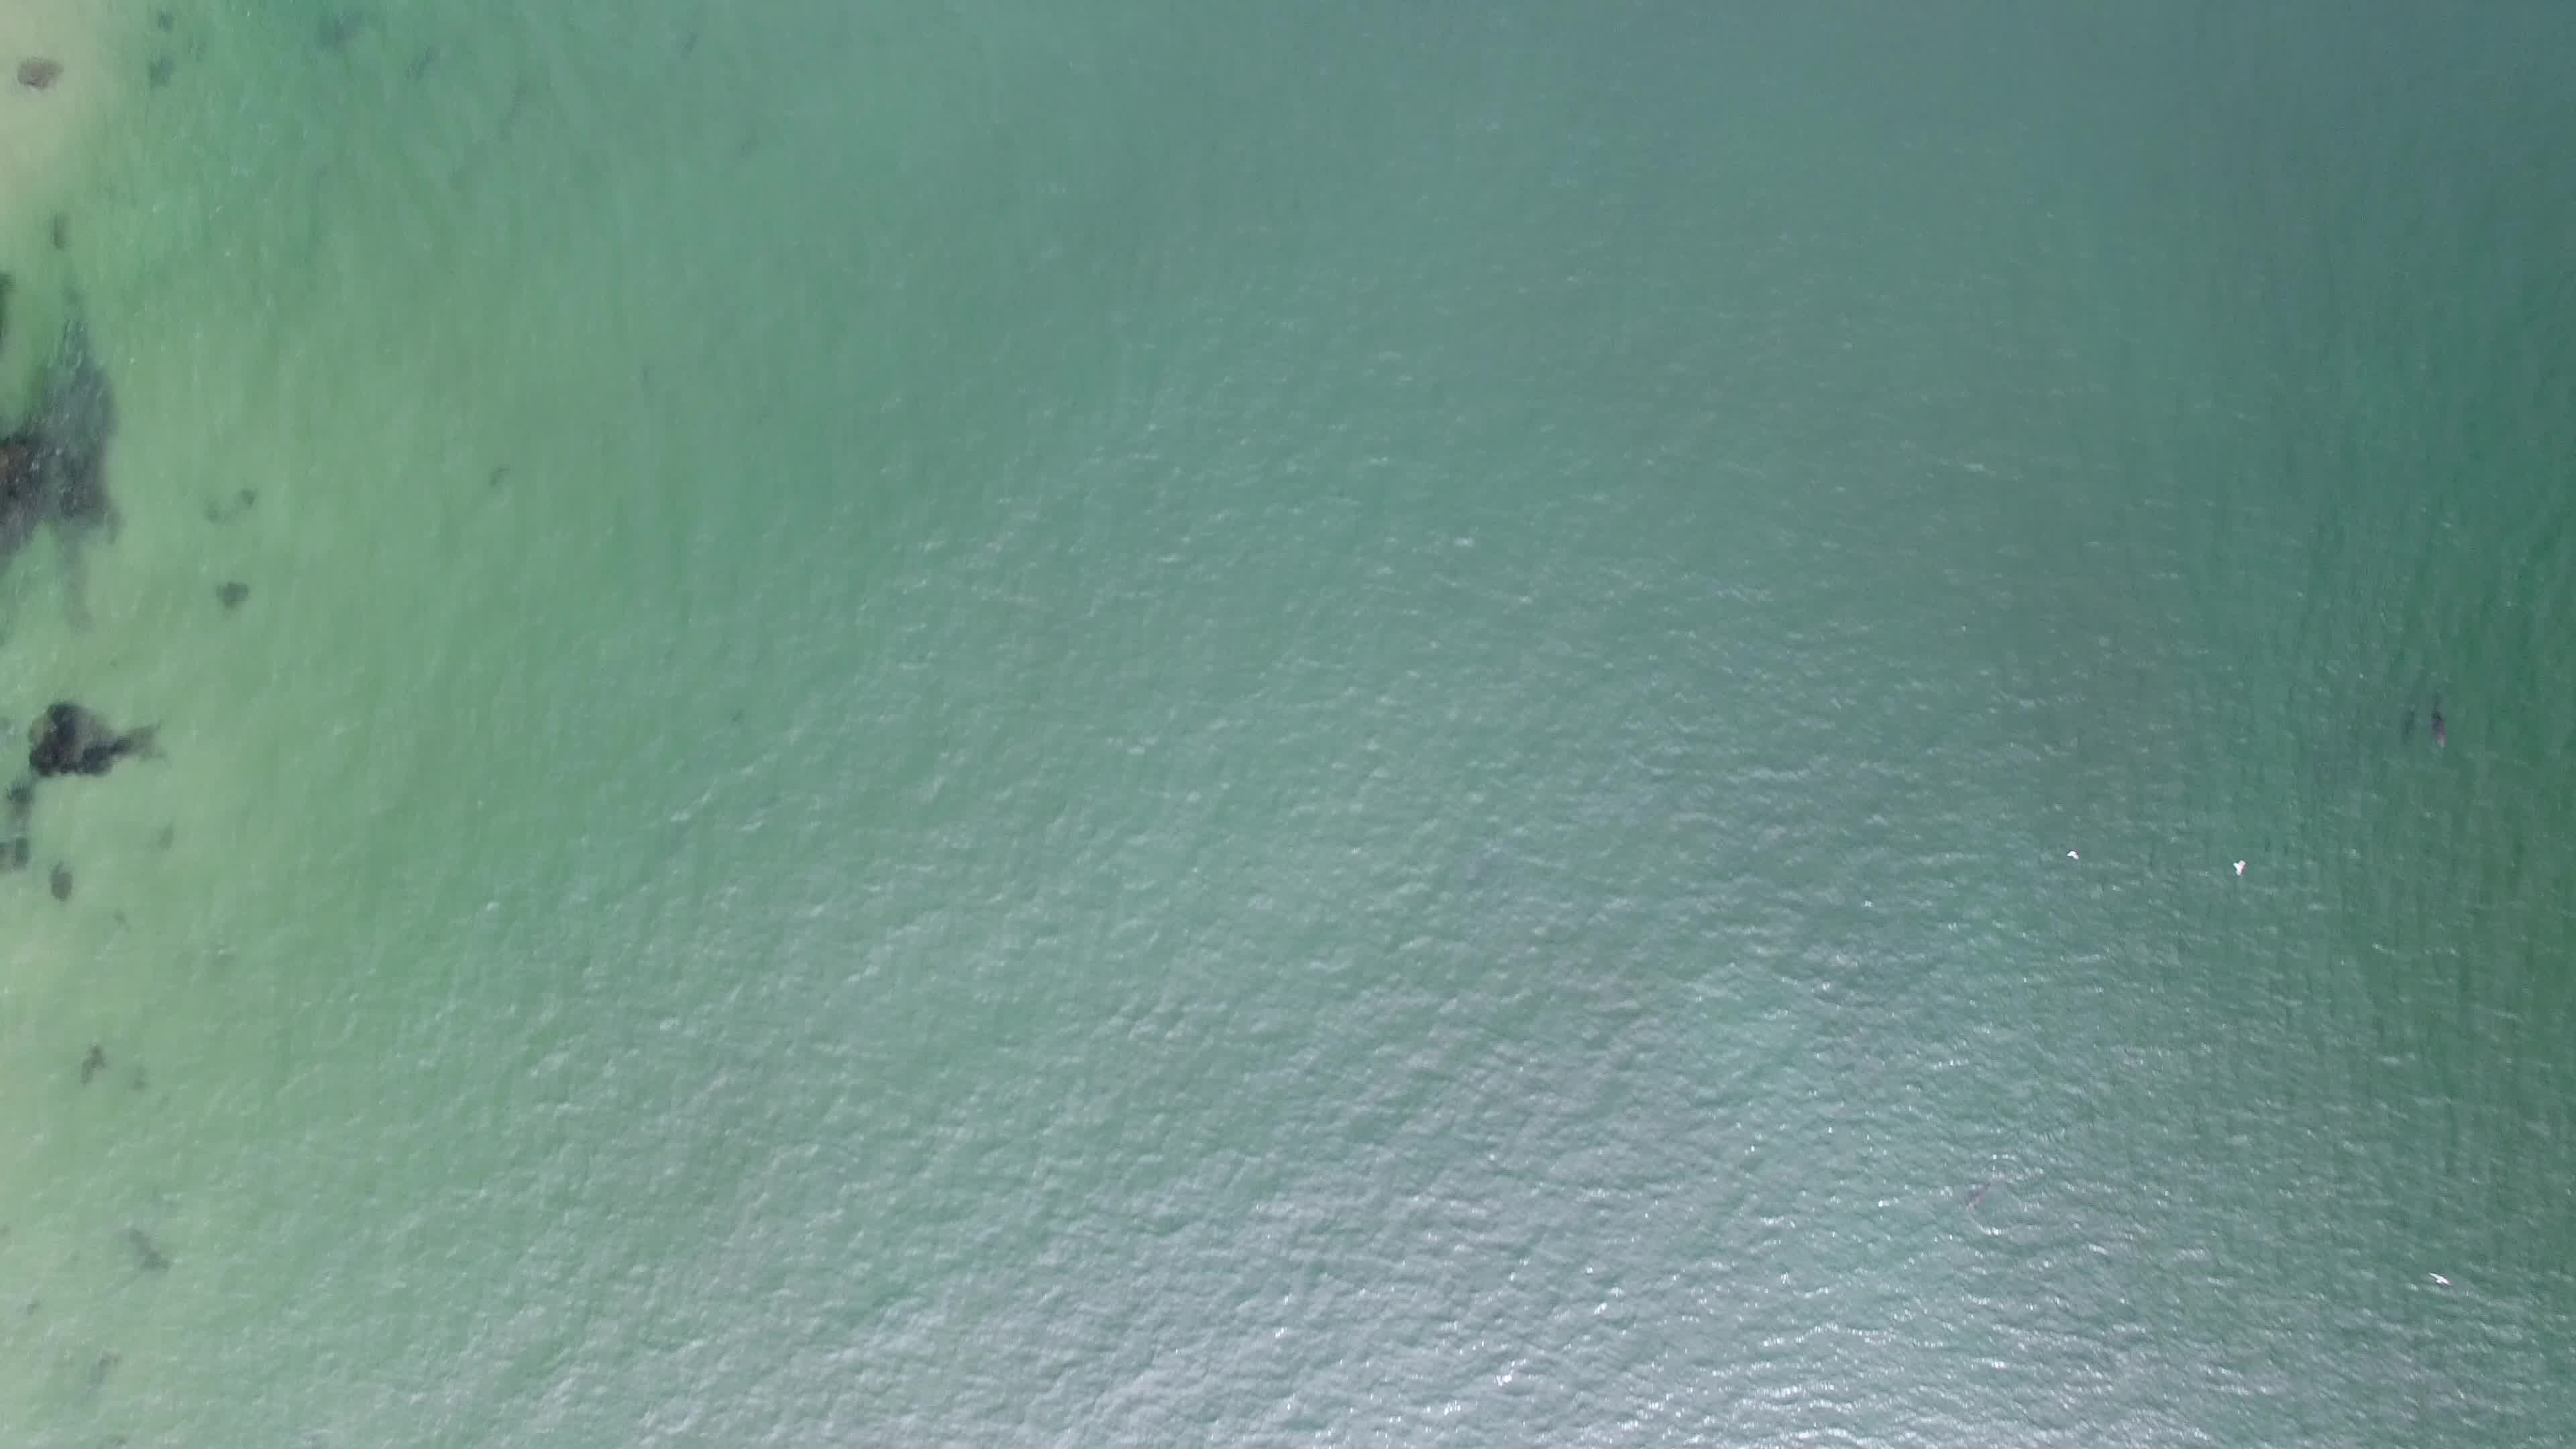dolphin: (2420, 683, 2468, 757)
